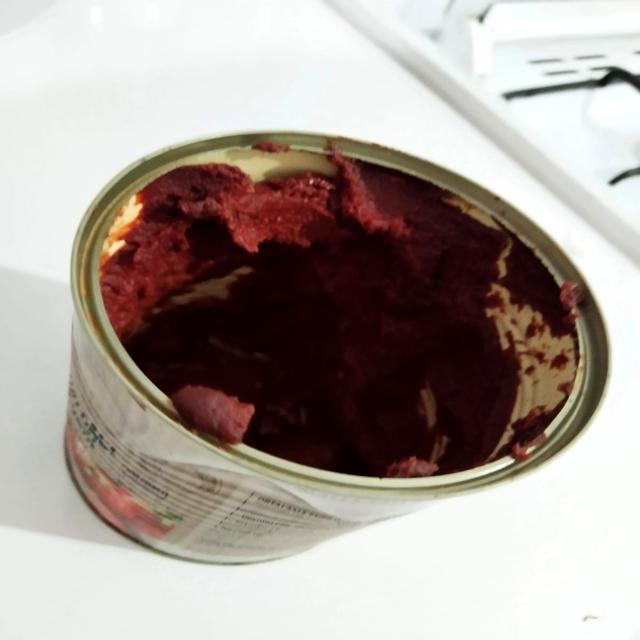tomato paste: (94, 150, 570, 486)
